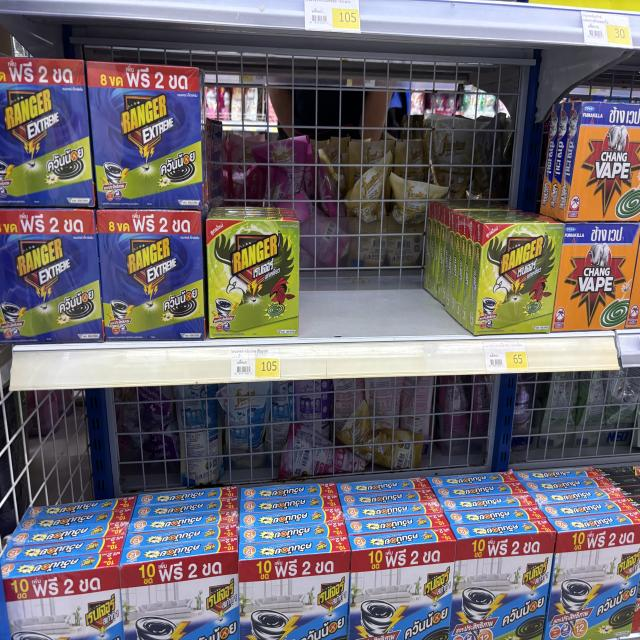empty_shelf: (300, 70, 456, 337)
